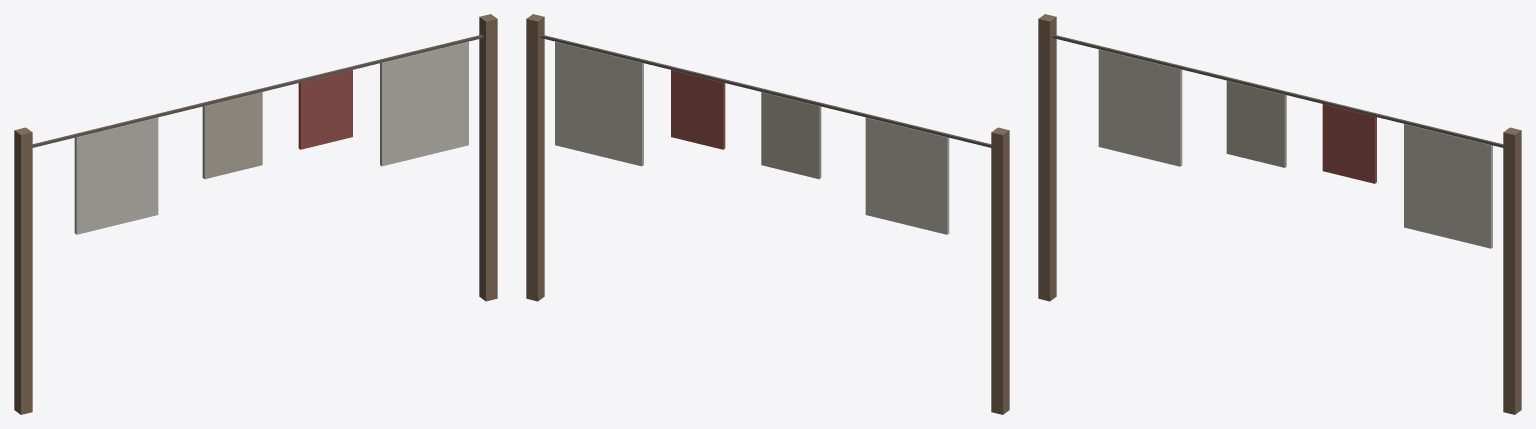
The model's file is laundry_line.glb.
The picture shows the model from 3 angles, left to right: view 1: azimuth 30°, elevation 25°; view 2: azimuth 150°, elevation 25°; view 3: azimuth 330°, elevation 25°; orthographic projection.
Parts seen in each view (by area): view 1: laundry_line; view 2: laundry_line; view 3: laundry_line.
Boxes of the visible parts, <box> form: laundry_line: <box>14,14,497,414</box>; laundry_line: <box>526,14,1009,414</box>; laundry_line: <box>1038,14,1521,414</box>.
Bounding box in the file's own units: 4.1 × 2.3 × 0.1.
